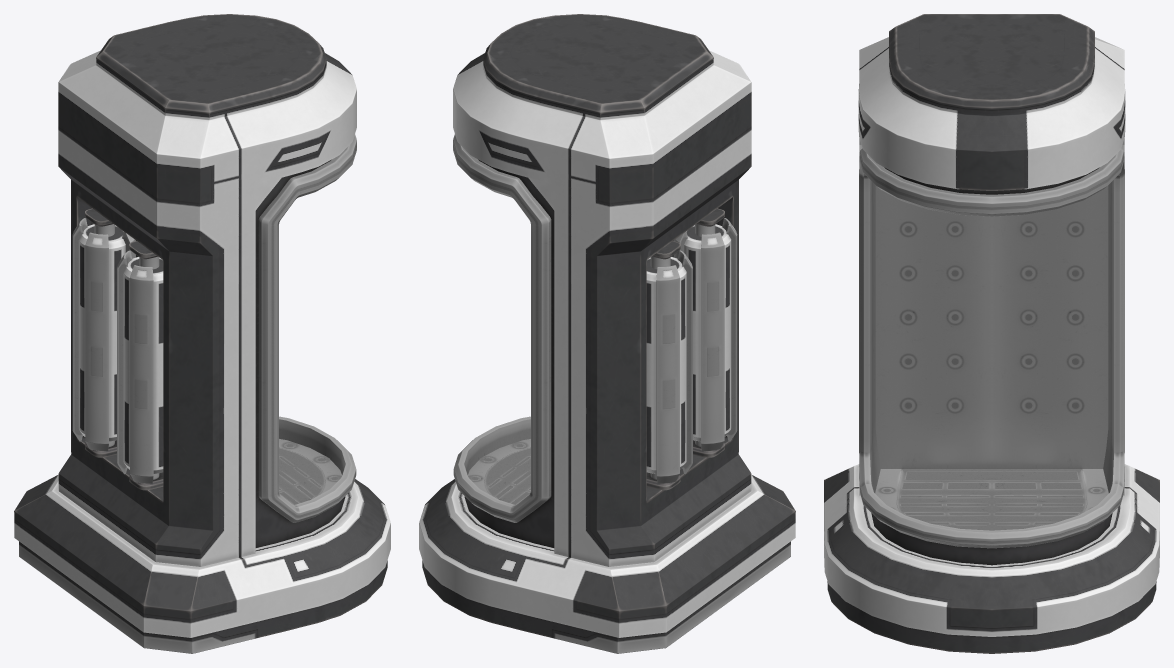
Rendered from SM_LabCapsule02_1_Capsule.FBX.
The picture shows the model from 3 angles, left to right: view 1: azimuth 30°, elevation 25°; view 2: azimuth 150°, elevation 25°; view 3: azimuth 270°, elevation 25°; orthographic projection. The views are drawn at different scales.
Visible parts, largest first — view 1: SM_LabCapsule02_1_Capsule; view 2: SM_LabCapsule02_1_Capsule; view 3: SM_LabCapsule02_1_Capsule.
Part boxes in pixels (x1,y1,x2,y2): SM_LabCapsule02_1_Capsule: (14, 14, 390, 653); SM_LabCapsule02_1_Capsule: (419, 14, 795, 653); SM_LabCapsule02_1_Capsule: (824, 14, 1159, 653).
Size of what is drawn, in the model's own units: 191 by 188 by 328.
